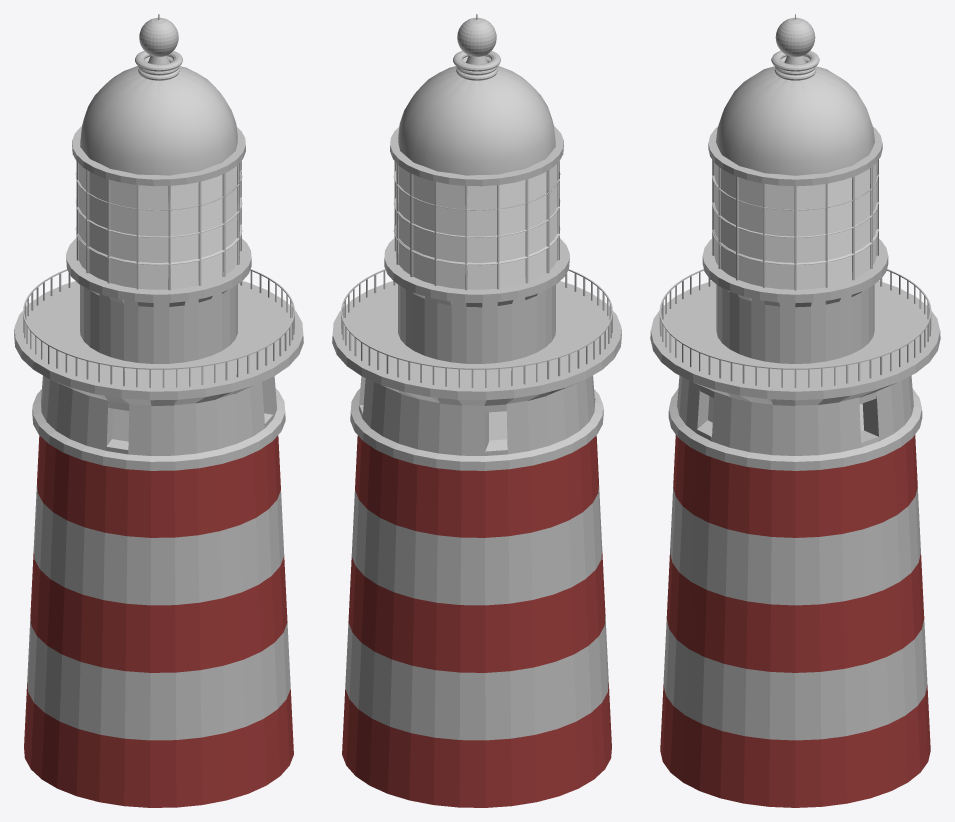
File: lighthouse_red_and_white.fbx
3 renders of one model, left to right at view 1: azimuth 30°, elevation 25°; view 2: azimuth 150°, elevation 25°; view 3: azimuth 270°, elevation 25°, orthographic.
Visible parts, largest first — view 1: Tower, Windows, Top Thing, Railing; view 2: Tower, Windows, Top Thing, Railing; view 3: Tower, Windows, Top Thing, Railing.
Boxes of the visible parts, bbox=[...] form: Tower: bbox=[14, 281, 303, 807]; Windows: bbox=[66, 126, 251, 363]; Top Thing: bbox=[80, 14, 237, 175]; Railing: bbox=[23, 269, 294, 387]; Tower: bbox=[332, 281, 621, 807]; Windows: bbox=[384, 126, 569, 363]; Top Thing: bbox=[398, 14, 555, 175]; Railing: bbox=[341, 269, 612, 387]; Tower: bbox=[650, 281, 940, 807]; Windows: bbox=[702, 127, 888, 363]; Top Thing: bbox=[716, 14, 874, 175]; Railing: bbox=[659, 269, 931, 387].
Bounding box in the file's own units: 6009 × 16823 × 6009.
